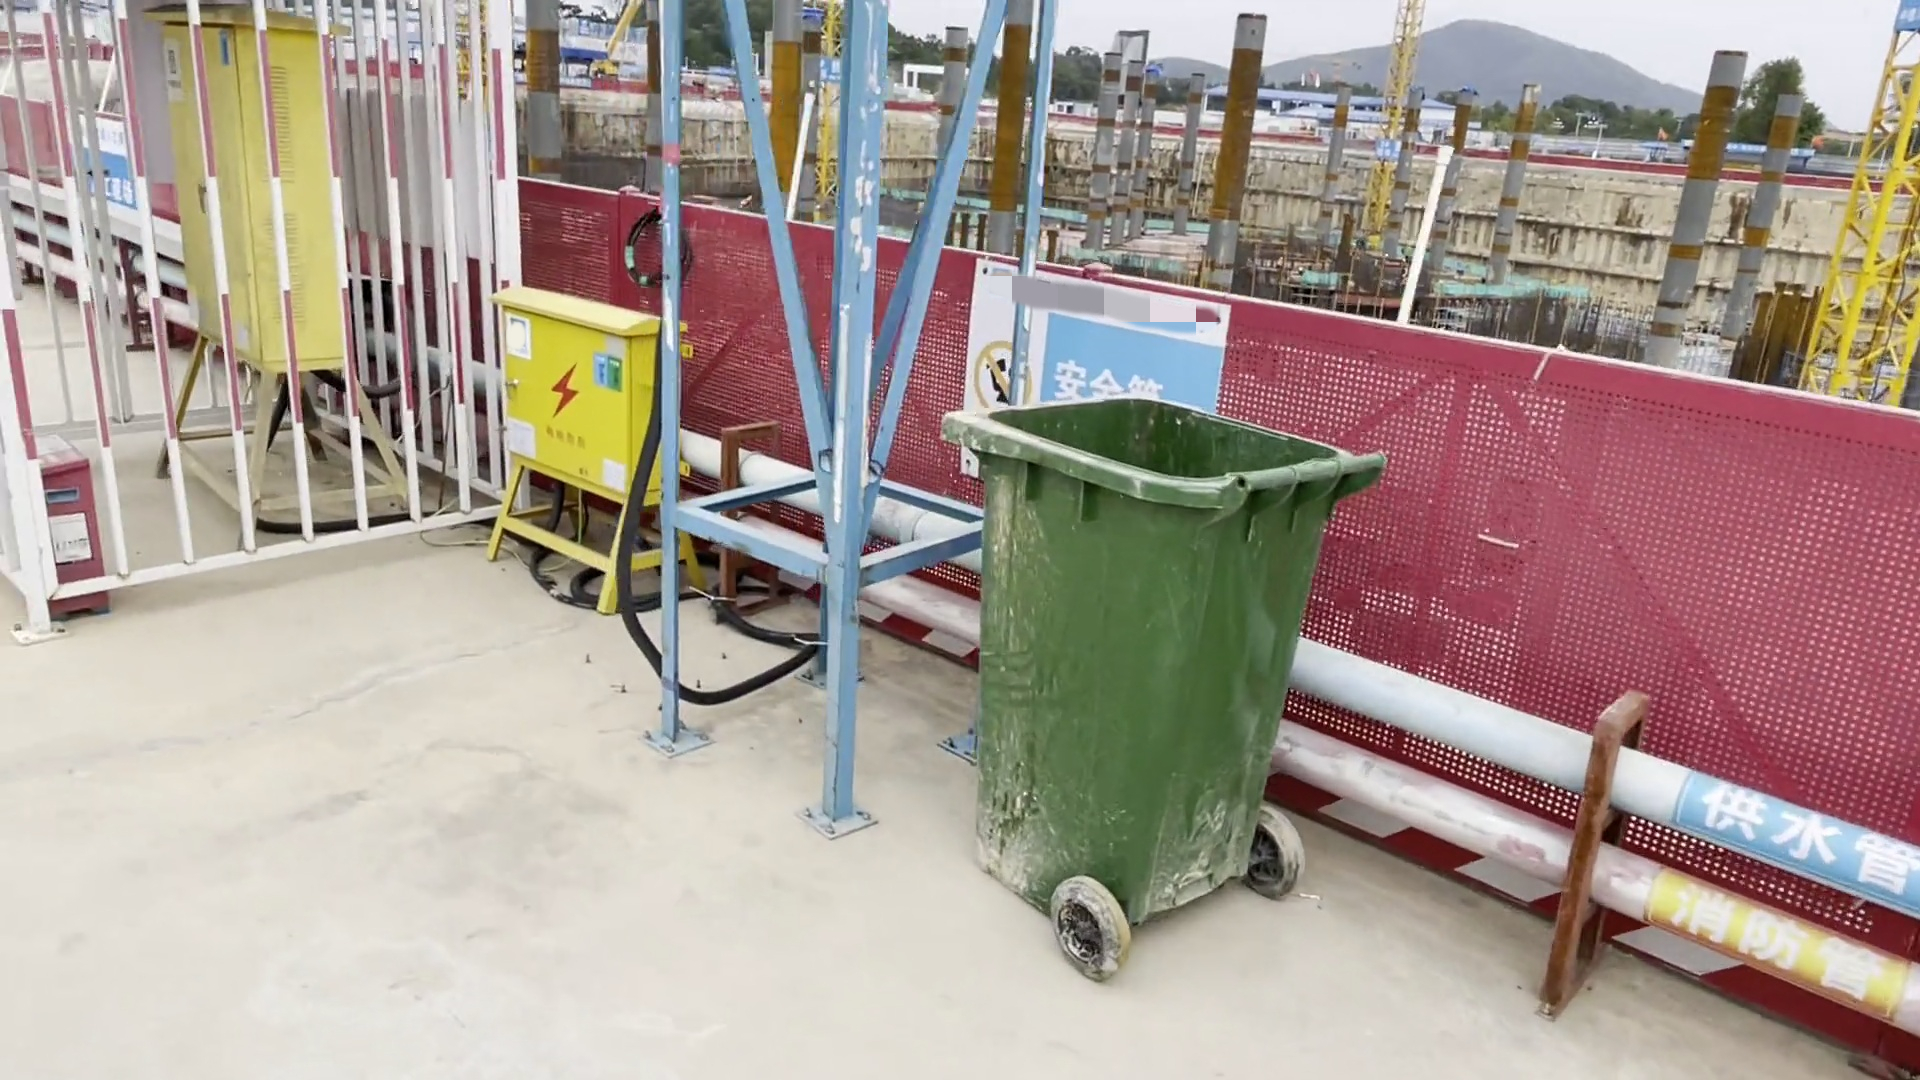ebox: (131, 18, 425, 522), (475, 237, 717, 649)
